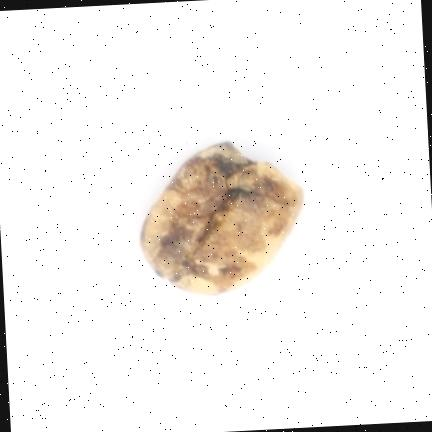partial-black: (141, 143, 303, 294)
